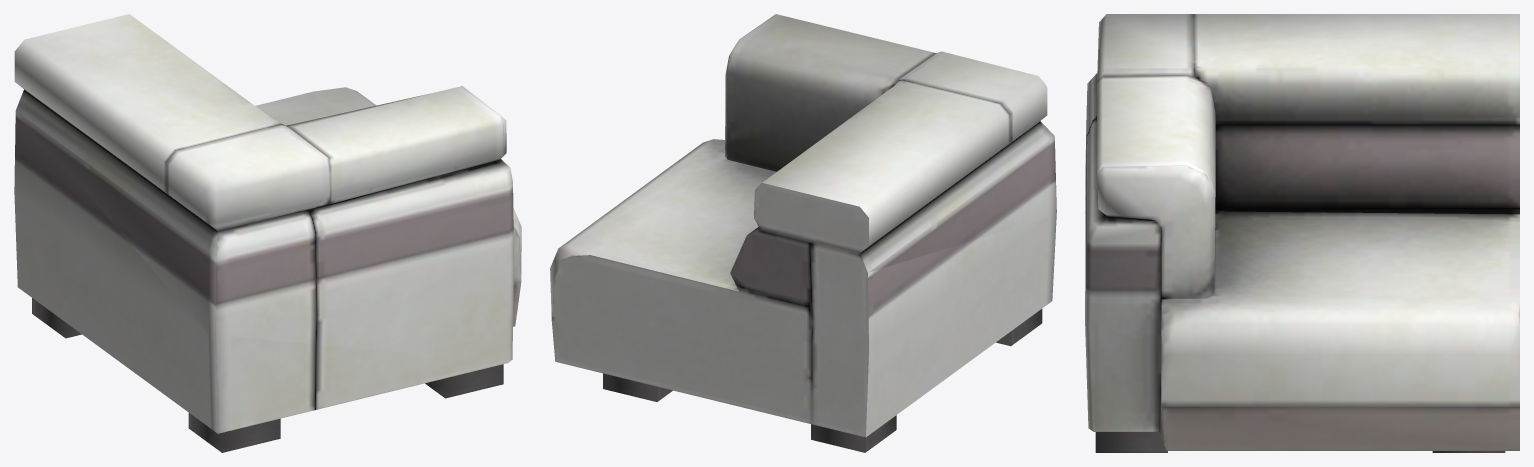
Rendered from Couch05_B.FBX.
3 renders of one model, left to right at view 1: azimuth 30°, elevation 25°; view 2: azimuth 150°, elevation 25°; view 3: azimuth 270°, elevation 25°, orthographic. The views are drawn at different scales.
Parts seen in each view (by area): view 1: Couch05_B; view 2: Couch05_B; view 3: Couch05_B.
Part boxes in pixels (left/top/right/bottom): Couch05_B: left=14, top=14, right=521, bottom=452; Couch05_B: left=550, top=14, right=1056, bottom=452; Couch05_B: left=1085, top=14, right=1519, bottom=452.
Size of the model in its own units: 1.11 by 0.826 by 1.12.
